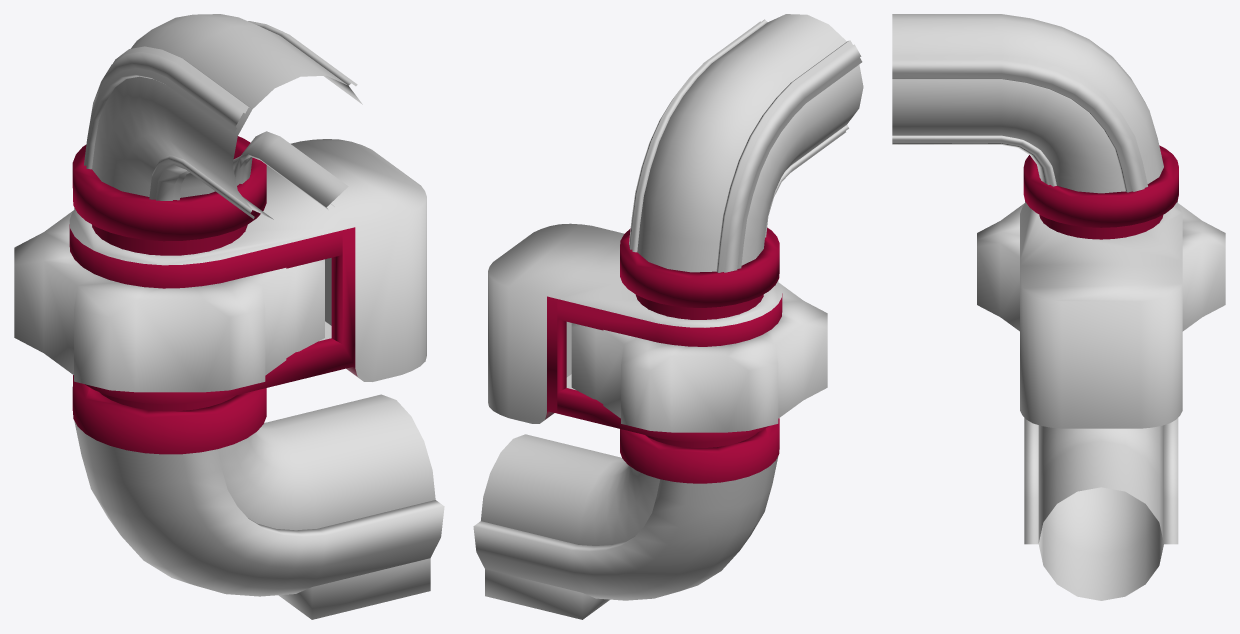
Rendered from PipeUpLeftInternalVariant_Layer0.gltf.
3 renders of one model, left to right at view 1: azimuth 30°, elevation 25°; view 2: azimuth 150°, elevation 25°; view 3: azimuth 270°, elevation 25°, orthographic. The views are drawn at different scales.
Visible parts, largest first — view 1: PipeBake_Pump_LOD0.003, PipeBake_Rotator_LOD0.003, PipeBake_SolidIn_Layer0_LOD0.002, PipeBake_ForwardUp_Glas_LOD0.003, PipeBake_UpFoward_Glas_LOD0.003, PipeBake_SolidOut_Layer1_LOD0.002; view 2: PipeBake_Pump_LOD0.003, PipeBake_UpFoward_Glas_LOD0.003, PipeBake_Rotator_LOD0.003, PipeBake_SolidIn_Layer0_LOD0.002, PipeBake_ForwardUp_Glas_LOD0.003, PipeBake_SolidOut_Layer1_LOD0.002; view 3: PipeBake_Pump_LOD0.003, PipeBake_UpFoward_Glas_LOD0.003, PipeBake_SolidIn_Layer0_LOD0.002, PipeBake_SolidOut_Layer1_LOD0.002, PipeBake_ForwardUp_Glas_LOD0.003, PipeBake_Rotator_LOD0.003.
Boxes of the visible parts, x1,y1,x2,y2 form: PipeBake_Pump_LOD0.003: [69, 136, 426, 454]; PipeBake_Rotator_LOD0.003: [14, 207, 324, 392]; PipeBake_SolidIn_Layer0_LOD0.002: [74, 421, 444, 619]; PipeBake_ForwardUp_Glas_LOD0.003: [110, 394, 435, 530]; PipeBake_UpFoward_Glas_LOD0.003: [92, 14, 346, 208]; PipeBake_SolidOut_Layer1_LOD0.002: [84, 21, 362, 219]; PipeBake_Pump_LOD0.003: [488, 223, 782, 483]; PipeBake_UpFoward_Glas_LOD0.003: [637, 14, 863, 272]; PipeBake_Rotator_LOD0.003: [571, 280, 827, 432]; PipeBake_SolidIn_Layer0_LOD0.002: [473, 456, 778, 619]; PipeBake_ForwardUp_Glas_LOD0.003: [481, 434, 747, 545]; PipeBake_SolidOut_Layer1_LOD0.002: [629, 19, 862, 272]; PipeBake_Pump_LOD0.003: [1020, 145, 1182, 428]; PipeBake_UpFoward_Glas_LOD0.003: [892, 14, 1163, 193]; PipeBake_SolidIn_Layer0_LOD0.002: [1024, 418, 1178, 600]; PipeBake_SolidOut_Layer1_LOD0.002: [892, 14, 1147, 192]; PipeBake_ForwardUp_Glas_LOD0.003: [1038, 425, 1163, 542]; PipeBake_Rotator_LOD0.003: [977, 200, 1225, 331].
Size of the model in its own units: 0.7768 by 1.35 by 0.7974.
